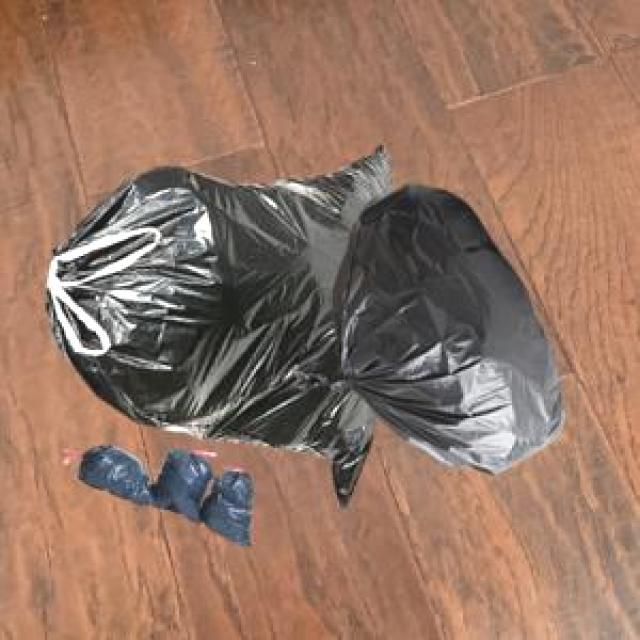Trashbag: (39, 138, 379, 448), (329, 185, 572, 473), (80, 444, 152, 504), (149, 452, 209, 518), (204, 477, 262, 542)
